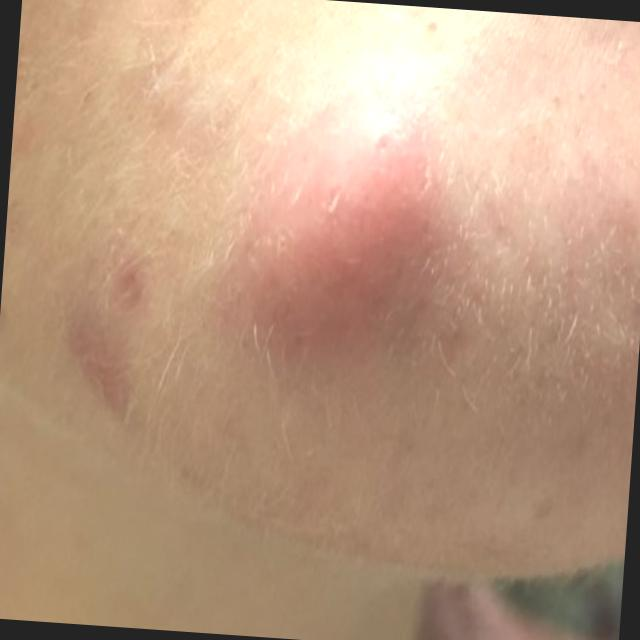nodule: (280, 90, 446, 340)
